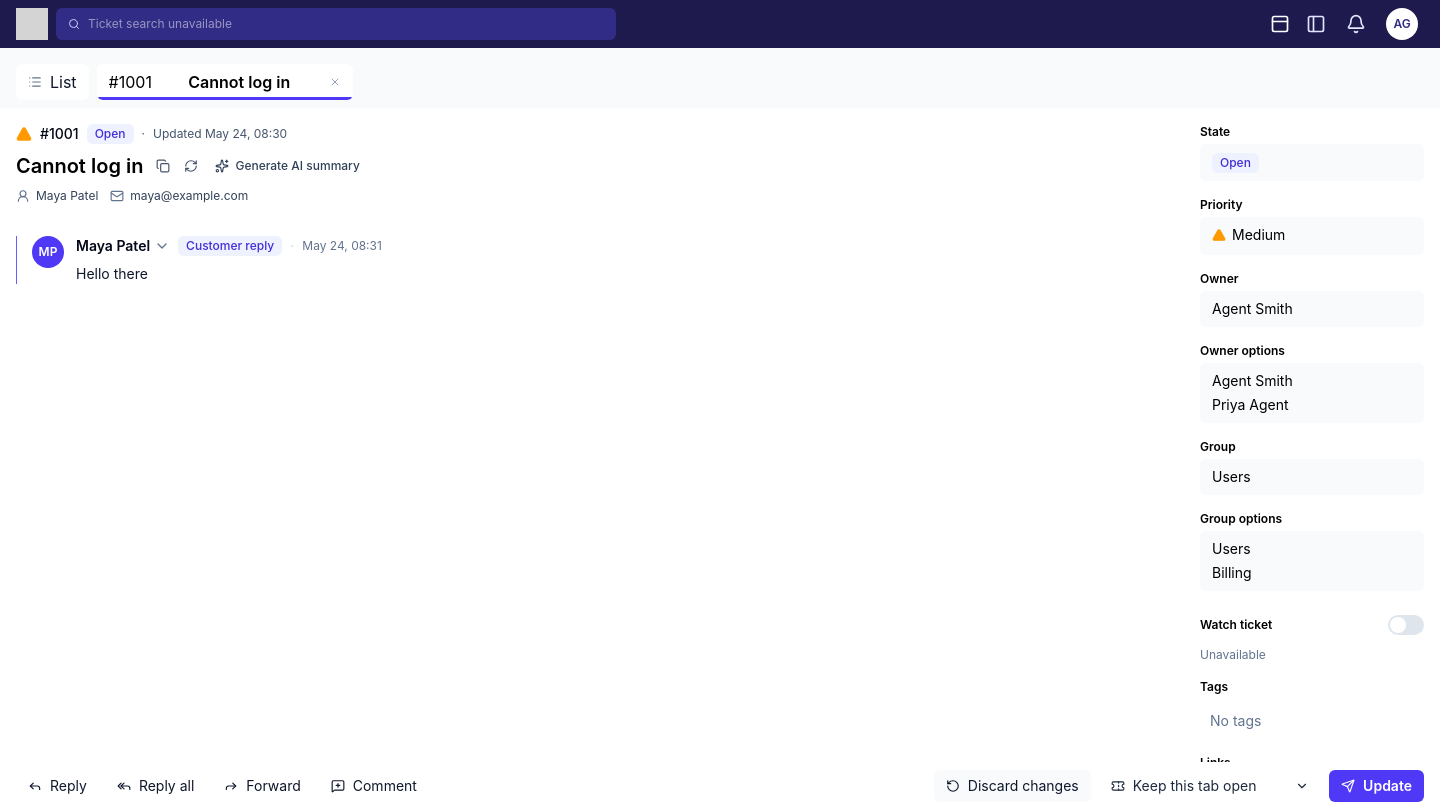
TicketWorkspace horizontal tabs › keeps ticket tabs open when switching to List and updates the URL locally
Click the tab with aria-label "Return to list: All tickets".
click(52, 82)  # box 16,64 -> 89,100
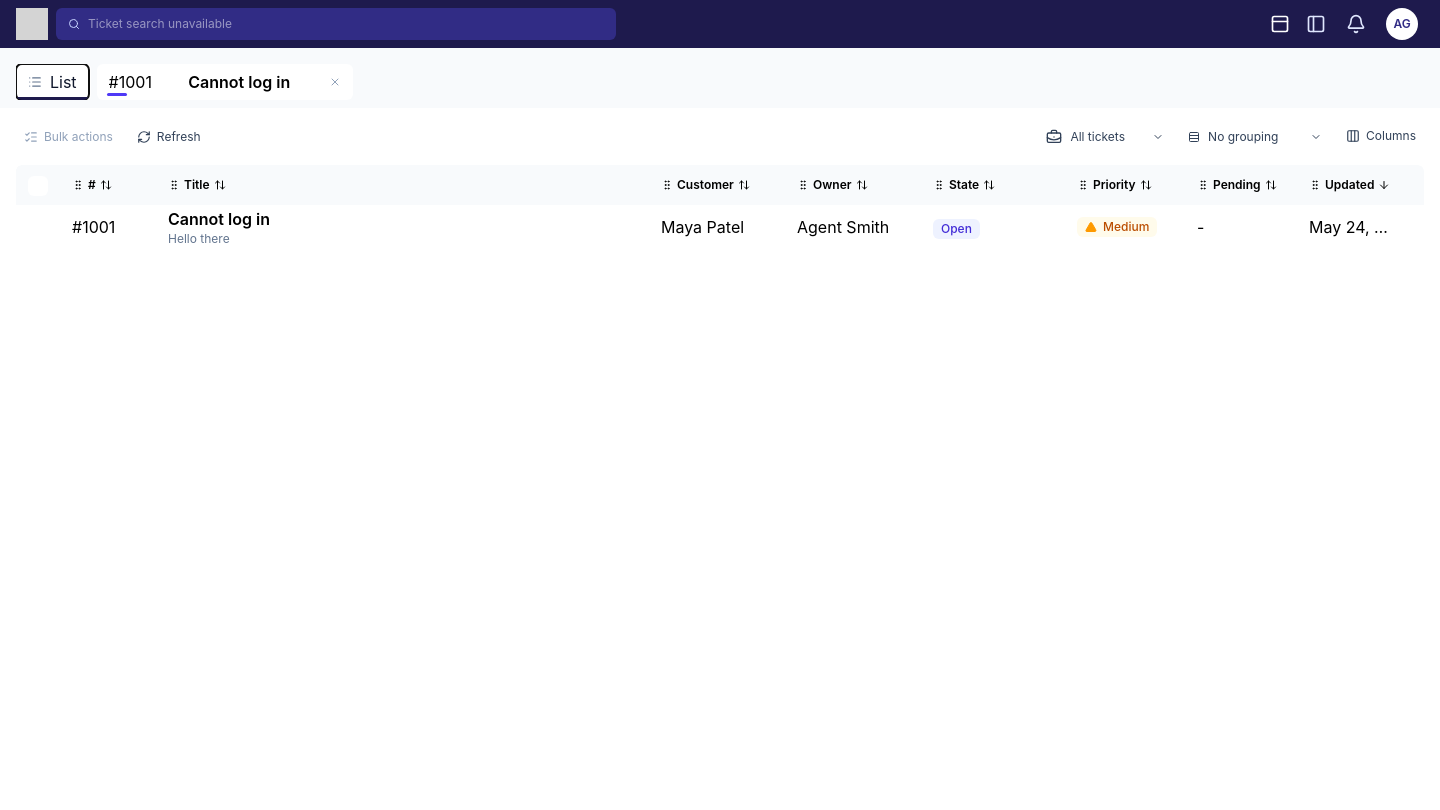
Check: the table named "Tickets" is shown
Click the tab "#1001 Cannot log in".
click(216, 82)  # box 109,70 -> 323,94
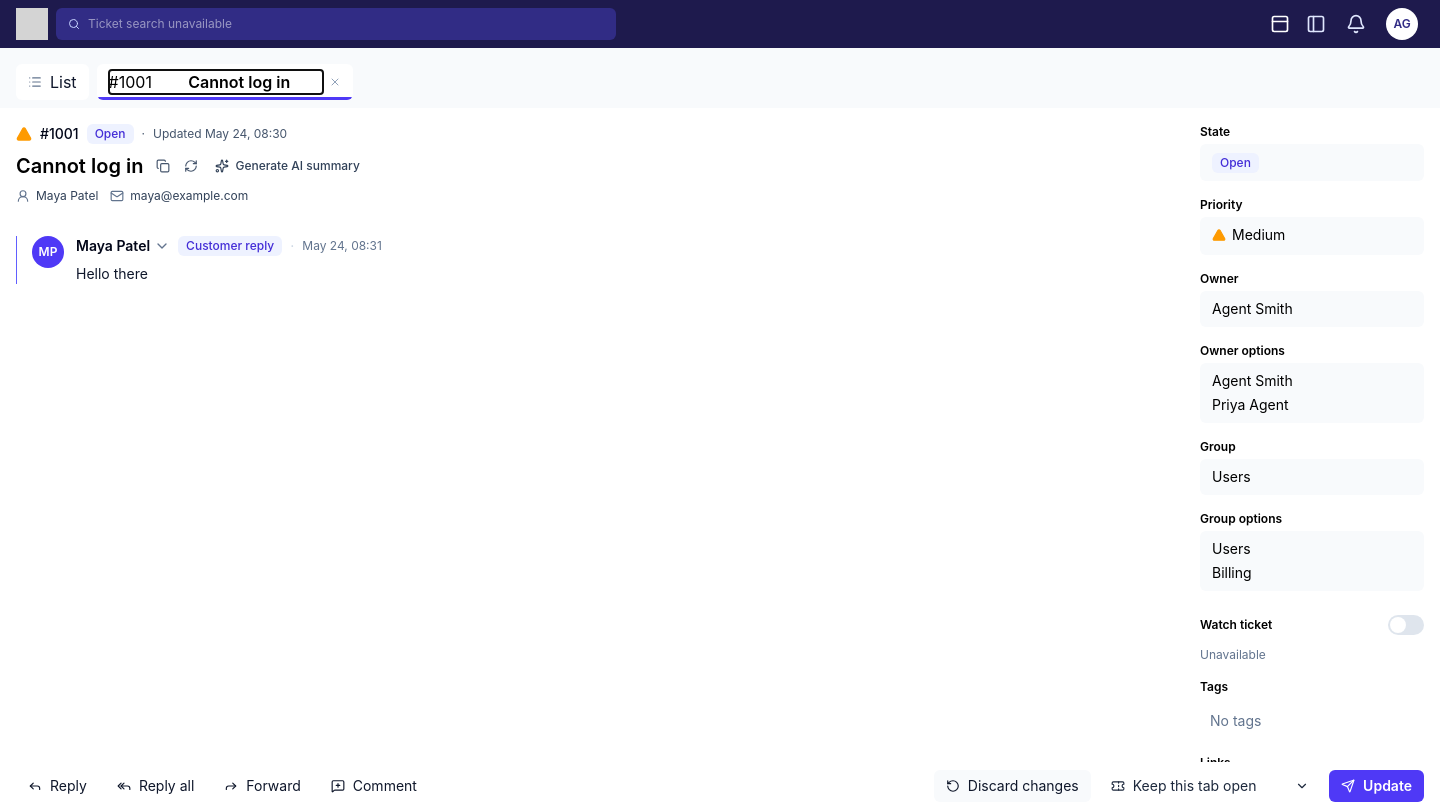
Check: the element named "Ticket detail #1001" is shown
Click the button named "Close #1001".
click(335, 82)  # box 329,76 -> 341,88
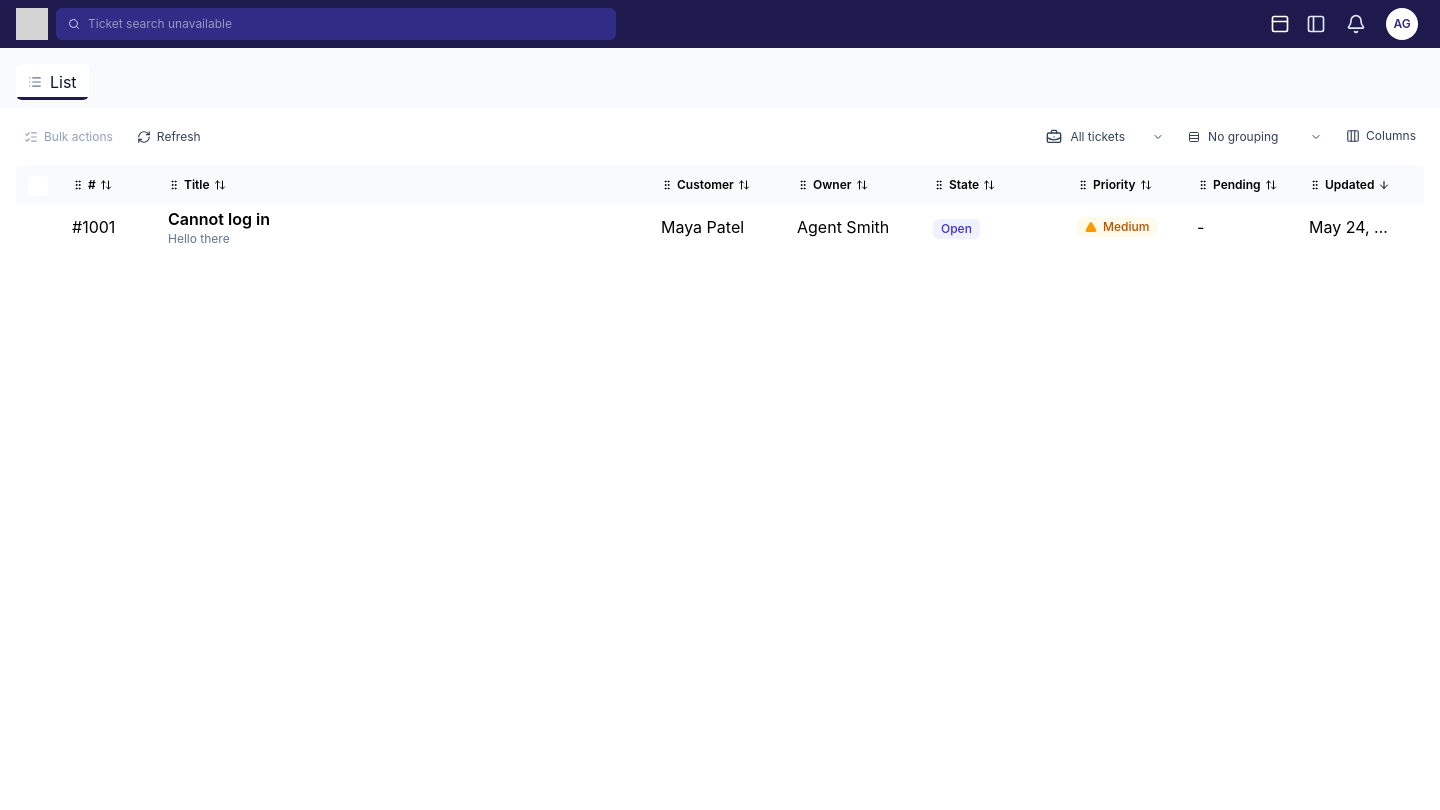
Check: the table named "Tickets" is shown
